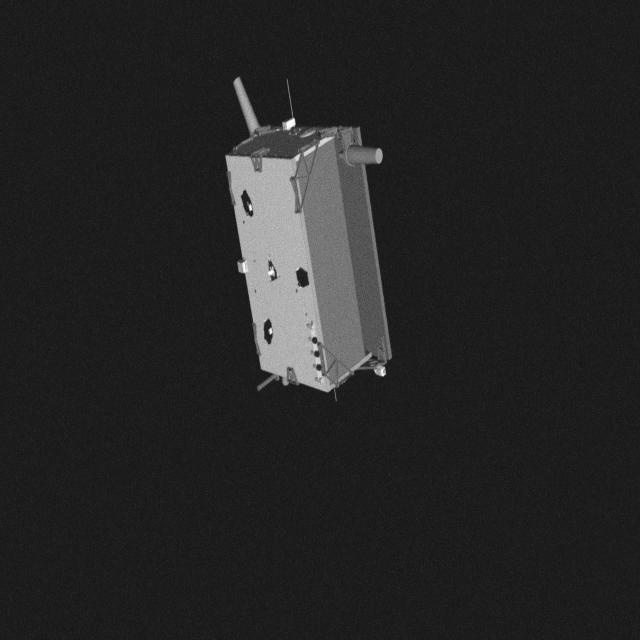medium_debris: (198, 74, 390, 398)
